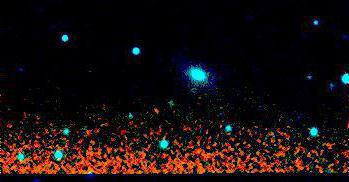star: (140, 96, 170, 126)
